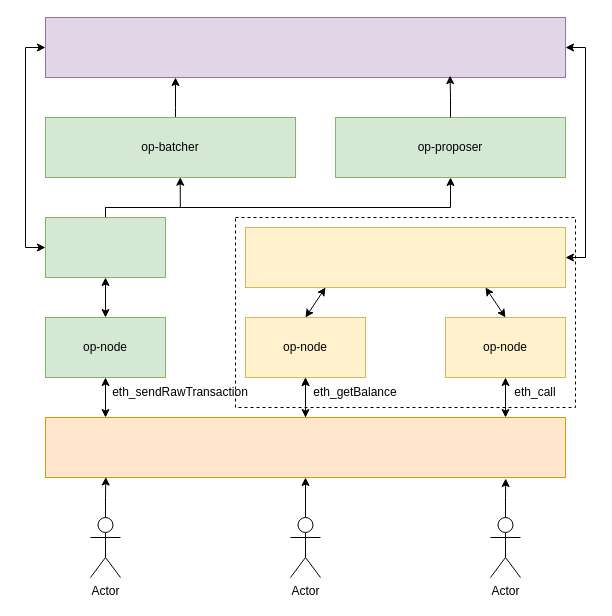
This 612x616 diagram has some shape labels left out. Each missing label, with the centre of its shape:
L1: [305,47]
op-geth (full/archive mode): [405,257]
op-geth (sequencer) (archive mode): [105,247]
proxyd: [305,447]
